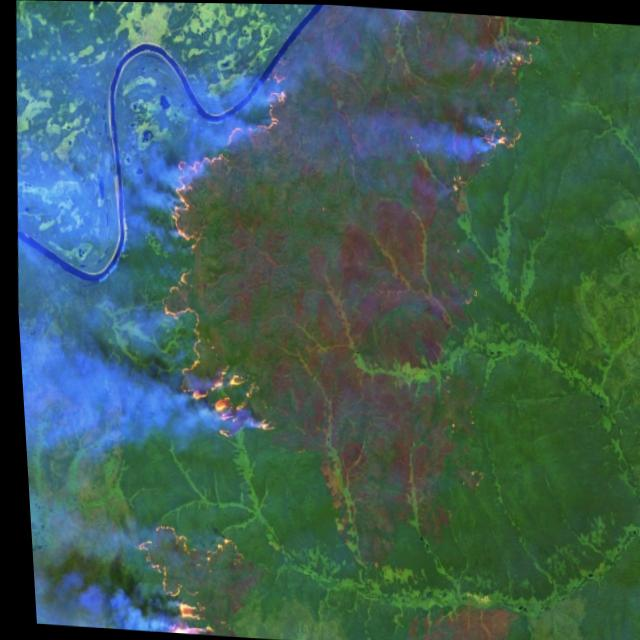fire: (131, 53, 308, 447), (114, 511, 252, 638), (472, 16, 548, 174)
